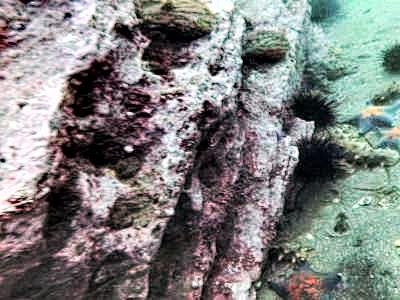urchin: (293, 134, 342, 182), (286, 92, 336, 130), (381, 40, 397, 72)
